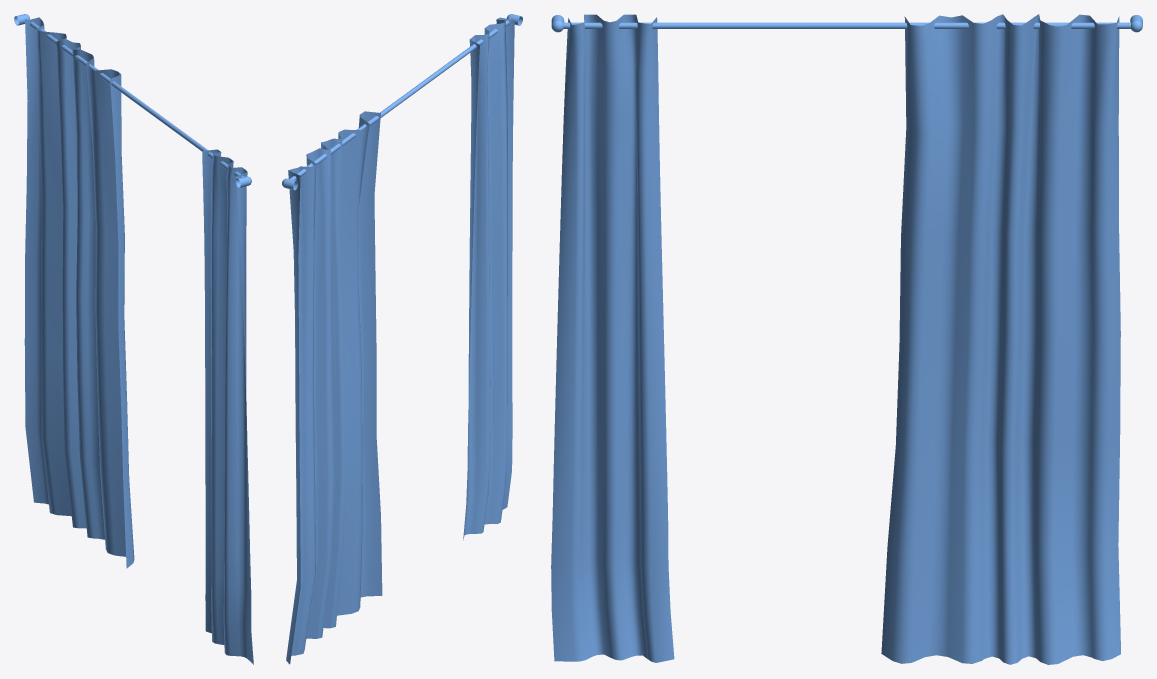
Rendered from Curtain.fbx.
The picture shows the model from 3 angles, left to right: view 1: azimuth 30°, elevation 25°; view 2: azimuth 150°, elevation 25°; view 3: azimuth 270°, elevation 25°; orthographic projection. The views are drawn at different scales.
Visible parts, largest first — view 1: Curtain; view 2: Curtain; view 3: Curtain.
Part boxes in pixels (bbox=[...]): Curtain: bbox=[14, 14, 253, 664]; Curtain: bbox=[282, 14, 522, 664]; Curtain: bbox=[551, 14, 1142, 664].
Bounding box in the file's own units: 5.4 × 86.87 × 72.52.
